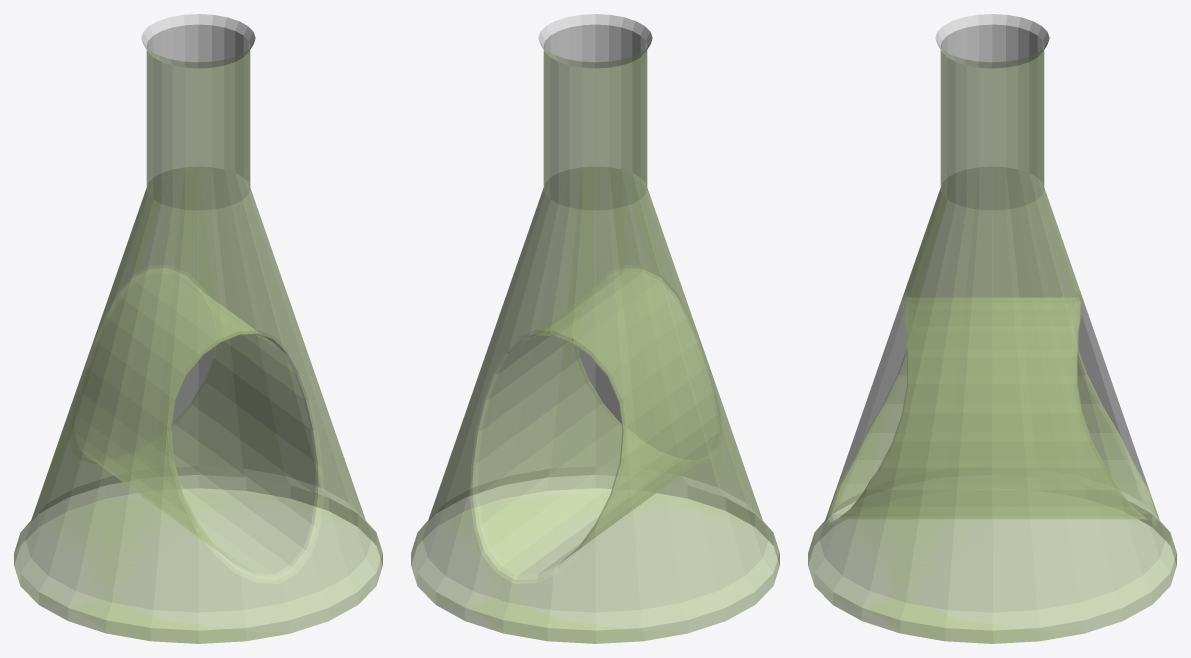
The model's file is Erlenmeyer flask.glb.
The picture shows the model from 3 angles, left to right: view 1: azimuth 30°, elevation 25°; view 2: azimuth 150°, elevation 25°; view 3: azimuth 270°, elevation 25°; orthographic projection.
Visible parts, largest first — view 1: Cirkel.001, Cirkel; view 2: Cirkel.001, Cirkel; view 3: Cirkel.001, Cirkel.
Part boxes in pixels (bbox=[...]): Cirkel.001: bbox=[14, 46, 382, 643]; Cirkel: bbox=[14, 14, 382, 643]; Cirkel.001: bbox=[411, 46, 779, 643]; Cirkel: bbox=[411, 14, 779, 643]; Cirkel.001: bbox=[808, 46, 1176, 643]; Cirkel: bbox=[808, 14, 1176, 643].
Bounding box in the file's own units: 2 × 3.16 × 2.
1 material, 1 textured.
